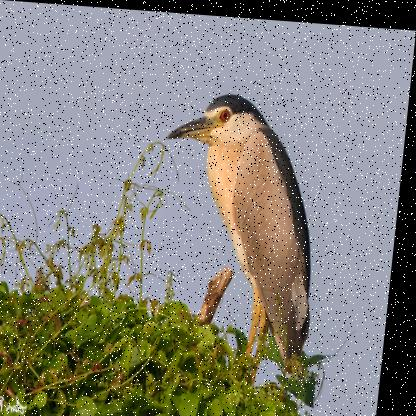Burung: (146, 87, 336, 404)
